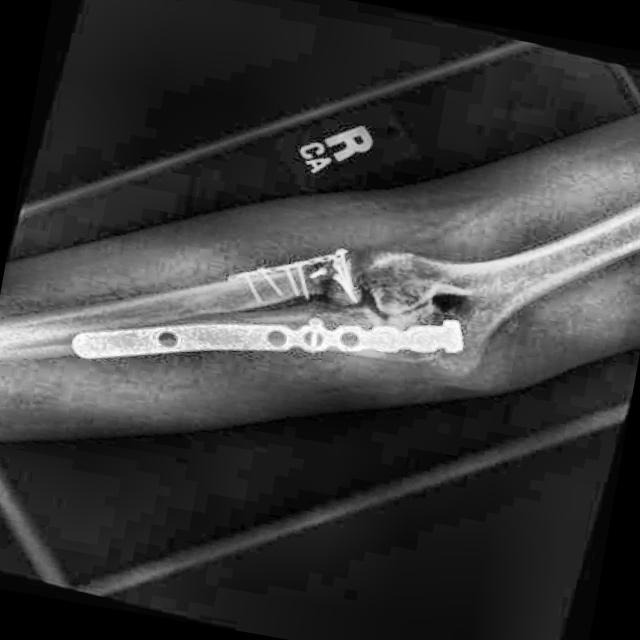elbow positive: (372, 275, 498, 331)
